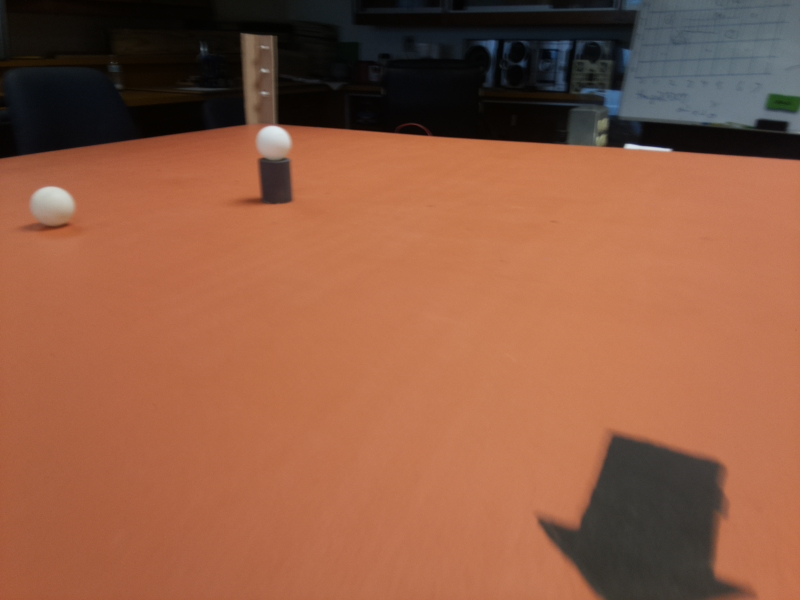corner: (246, 35, 275, 121)
obstacle: (253, 123, 292, 210)
start: (542, 442, 765, 600)
